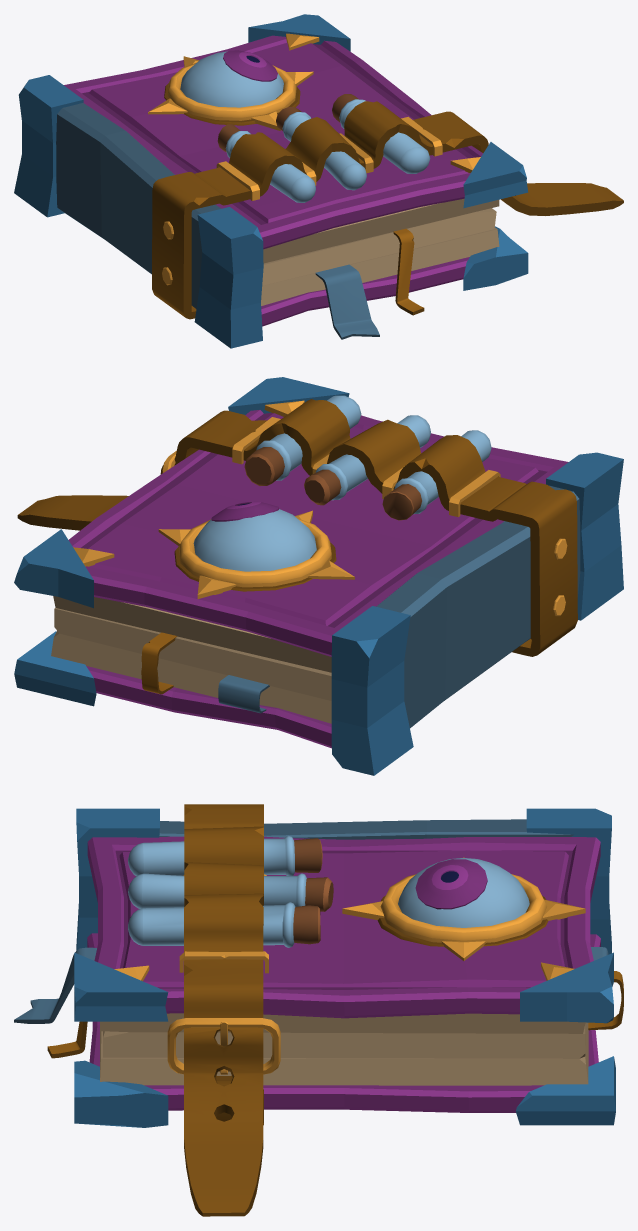
File: fullbook.fbx
3 renders of one model, top to bottom at view 1: azimuth 30°, elevation 25°; view 2: azimuth 150°, elevation 25°; view 3: azimuth 270°, elevation 25°, orthographic. The views are drawn at different scales.
Visible parts, largest first — view 1: Cube; view 2: Cube; view 3: Cube.
Part boxes in pixels (<box>): Cube: <box>14,14,623,348</box>; Cube: <box>14,377,623,775</box>; Cube: <box>14,804,623,1216</box>.
Size of the model in its own units: 266 by 82.43 by 250.
